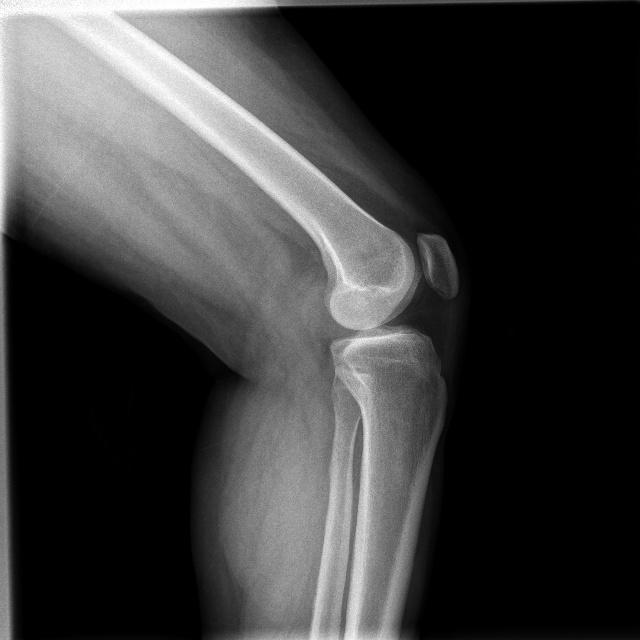Knee: (303, 217, 462, 405)
